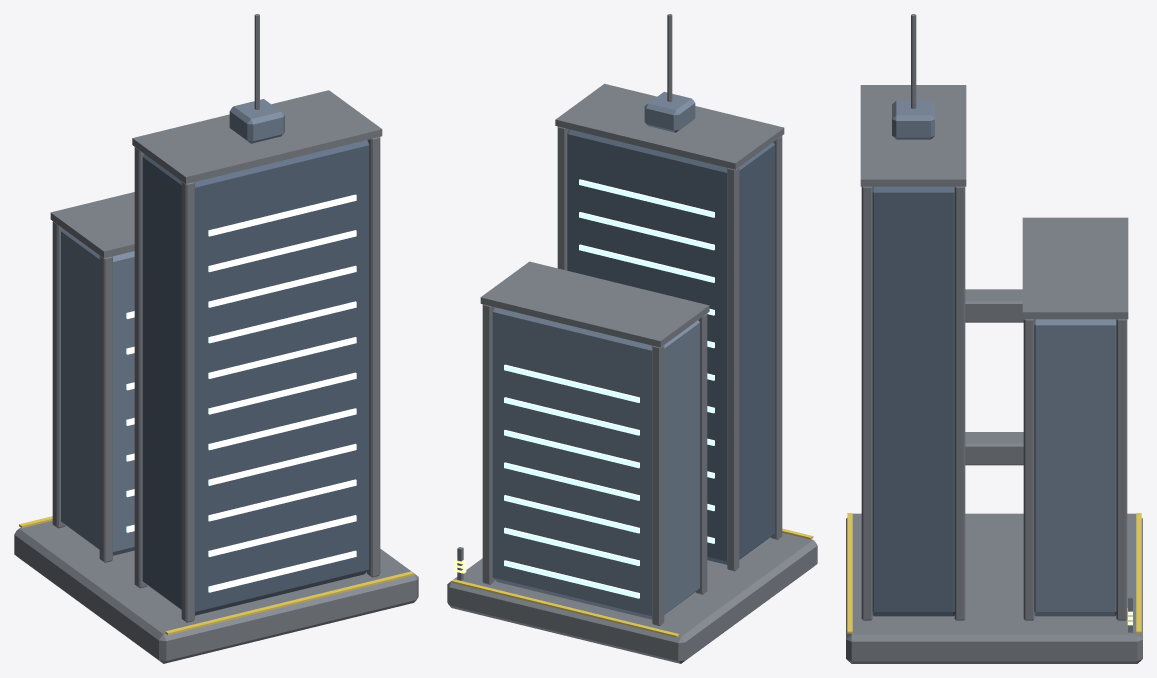
Rendered from zone_high_5_t3.glb.
3 views of the same model, side by side, from view 1: azimuth 30°, elevation 25°; view 2: azimuth 150°, elevation 25°; view 3: azimuth 270°, elevation 25° (orthographic). The views are drawn at different scales.
Parts seen in each view (by area): view 1: zone_high_5_t3, detail; view 2: zone_high_5_t3, detail; view 3: zone_high_5_t3, detail.
Part boxes in pixels (left/top/right/bottom): zone_high_5_t3: left=14, top=90, right=418, bottom=663; detail: left=19, top=14, right=413, bottom=635; zone_high_5_t3: left=447, top=83, right=817, bottom=663; detail: left=451, top=14, right=813, bottom=637; zone_high_5_t3: left=846, top=85, right=1142, bottom=663; detail: left=847, top=14, right=1141, bottom=633.
Size of the model in its own units: 27.5 by 60.19 by 27.5.
